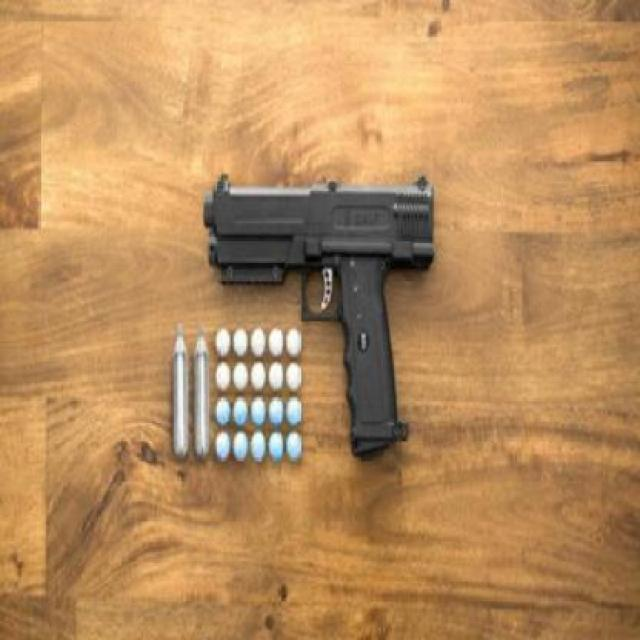gun: (182, 173, 464, 464)
